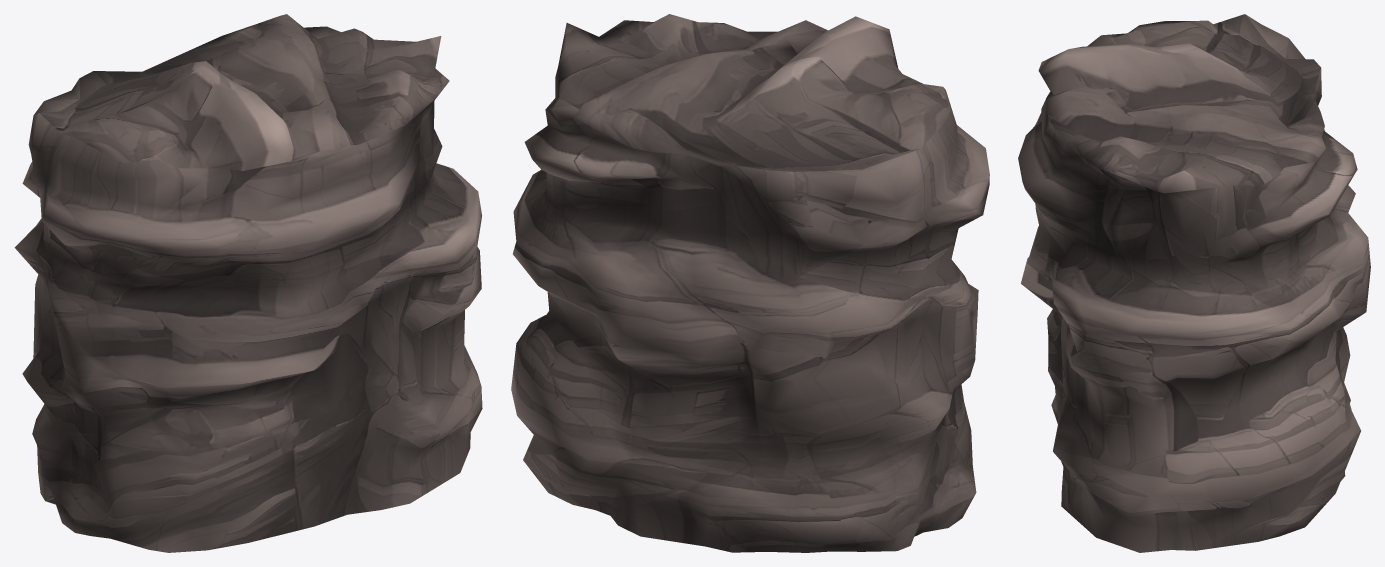
The model's file is Cliff1.fbx.
The picture shows the model from 3 angles, left to right: view 1: azimuth 30°, elevation 25°; view 2: azimuth 150°, elevation 25°; view 3: azimuth 270°, elevation 25°; orthographic projection. The views are drawn at different scales.
Visible parts, largest first — view 1: Cliff1; view 2: Cliff1; view 3: Cliff1.
Boxes of the visible parts, x1=… form: Cliff1: x1=14, y1=14, x2=482, y2=552; Cliff1: x1=511, y1=14, x2=989, y2=552; Cliff1: x1=1018, y1=14, x2=1370, y2=552.
Bounding box in the file's own units: 8.2 × 7.73 × 6.22.
